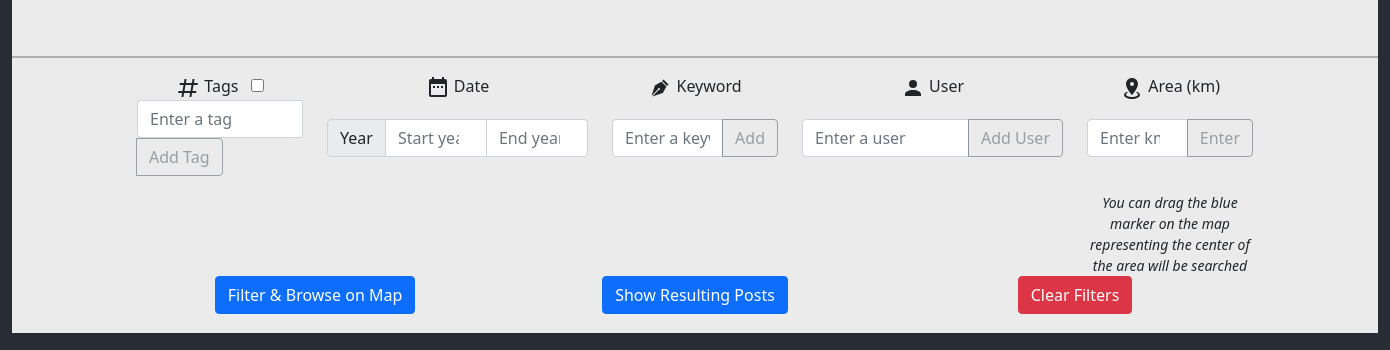
Test: Clicks on add a user successfully
The image size is (1390, 350).
Type "user1" into the field with placeholder "Enter a user" at (885, 138), box x1=802 y1=119 x2=969 y2=157
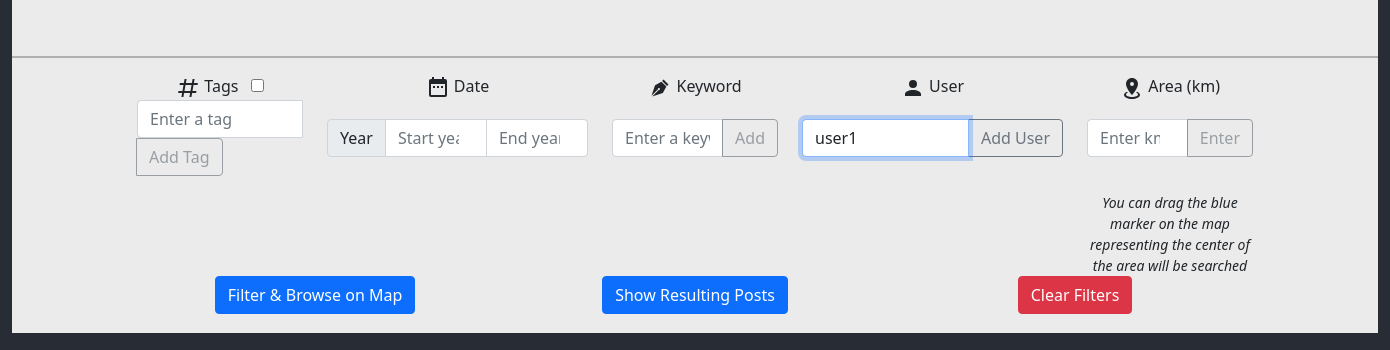
Click the button "Add User" at (1015, 138), box x1=968 y1=119 x2=1063 y2=157
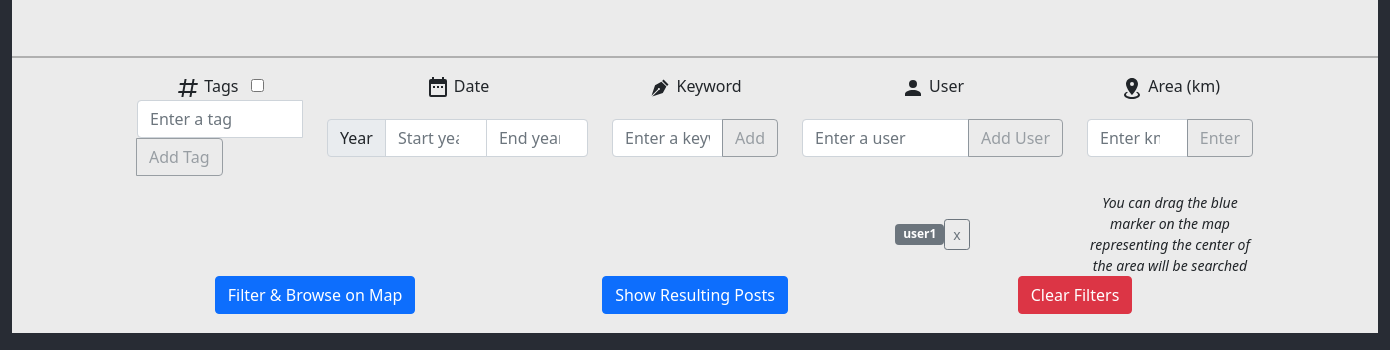
Expected: the text "user1" is shown, x1=895 y1=224 x2=944 y2=245
